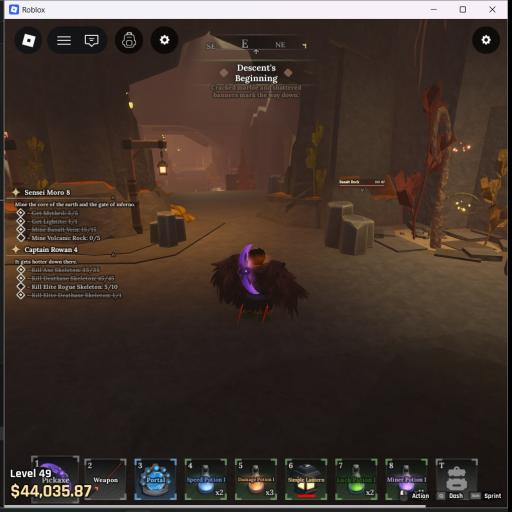player: (210, 245, 308, 323)
rock: (324, 202, 374, 255), (150, 211, 186, 247), (268, 175, 280, 194)
